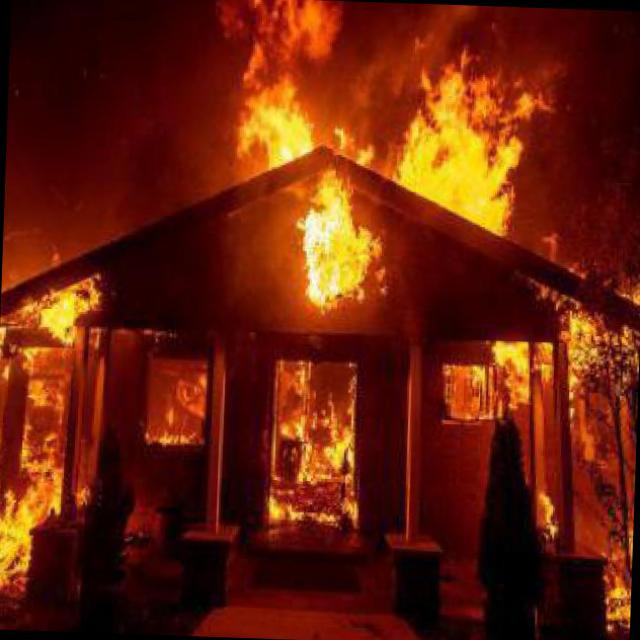fire: (384, 25, 549, 226), (0, 292, 99, 565), (255, 358, 374, 546), (228, 0, 331, 178), (293, 157, 388, 326), (488, 296, 612, 408), (133, 338, 220, 466), (600, 536, 632, 634), (534, 466, 566, 554)
